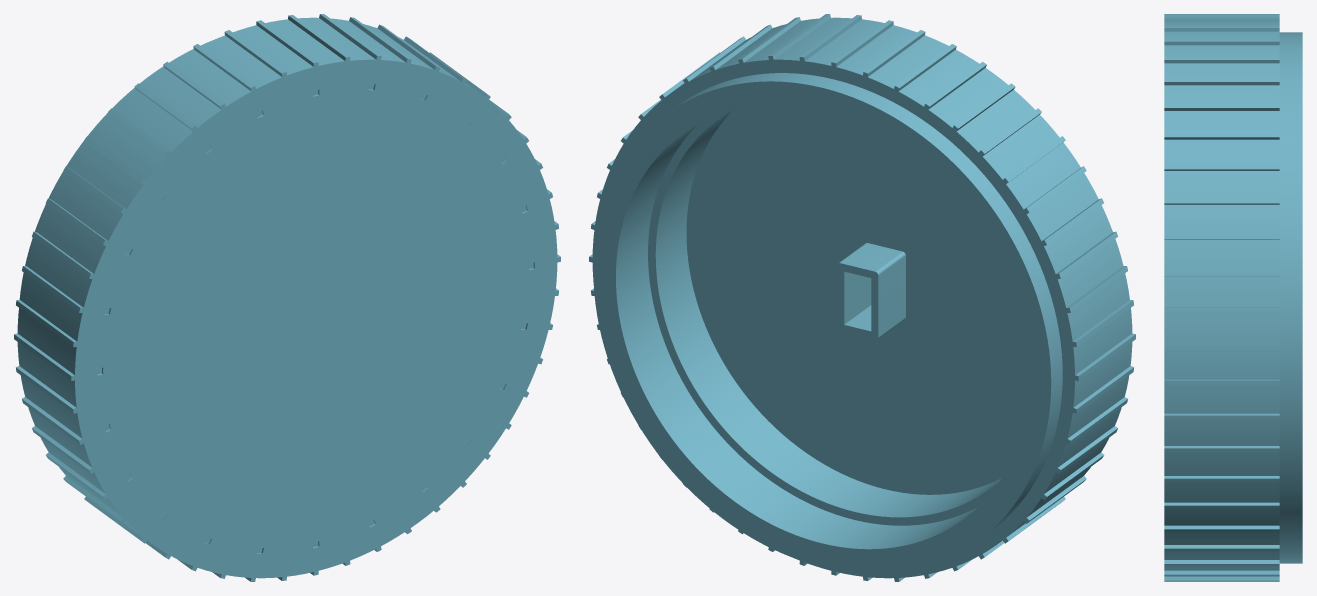
Rendered from Cap_circular.glb.
The picture shows the model from 3 angles, left to right: view 1: azimuth 30°, elevation 25°; view 2: azimuth 150°, elevation 25°; view 3: azimuth 270°, elevation 25°; orthographic projection.
Visible parts, largest first — view 1: Cap_circular_0; view 2: Cap_circular_0; view 3: Cap_circular_0.
Boxes of the visible parts, <box> form: Cap_circular_0: <box>14,14,560,581</box>; Cap_circular_0: <box>589,14,1135,581</box>; Cap_circular_0: <box>1164,14,1302,581</box>.
Bounding box in the file's own units: 61.6 × 61.6 × 15.
